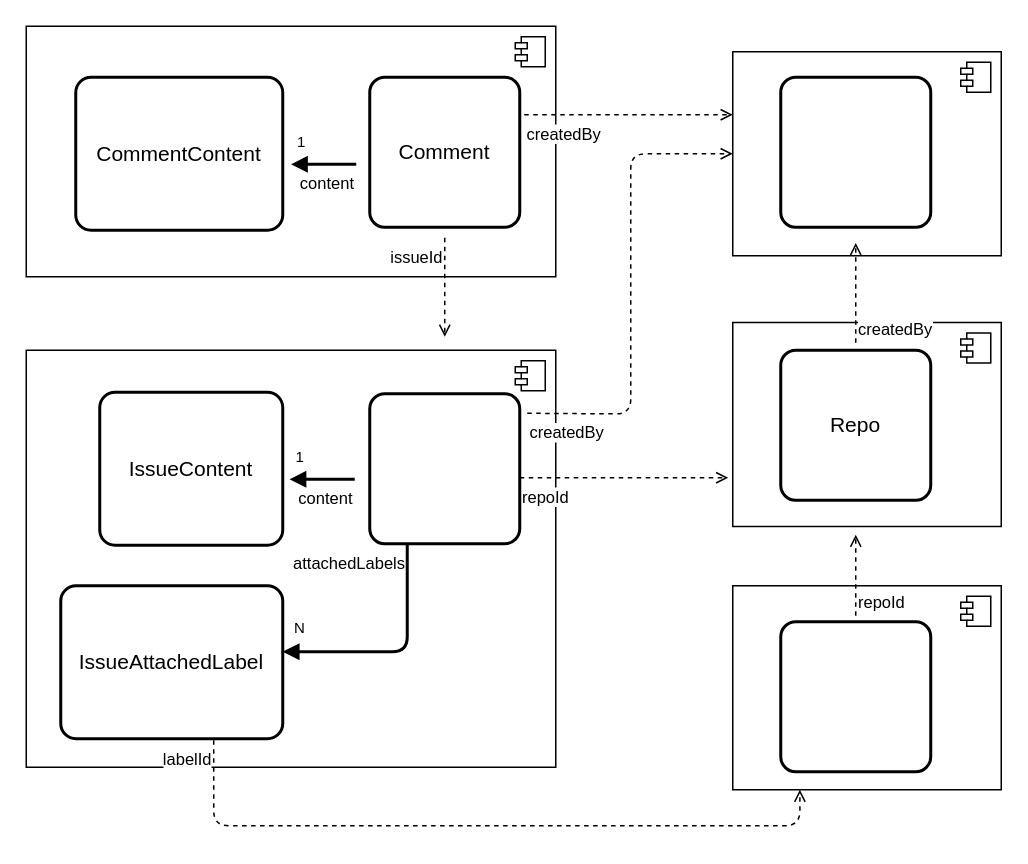
This 1028x864 diagram has some shape labels left out. Each missing label, with the box of its shape:
Account: (778, 75, 932, 228)
Client: (368, 392, 520, 544)
Label: (778, 620, 932, 772)
